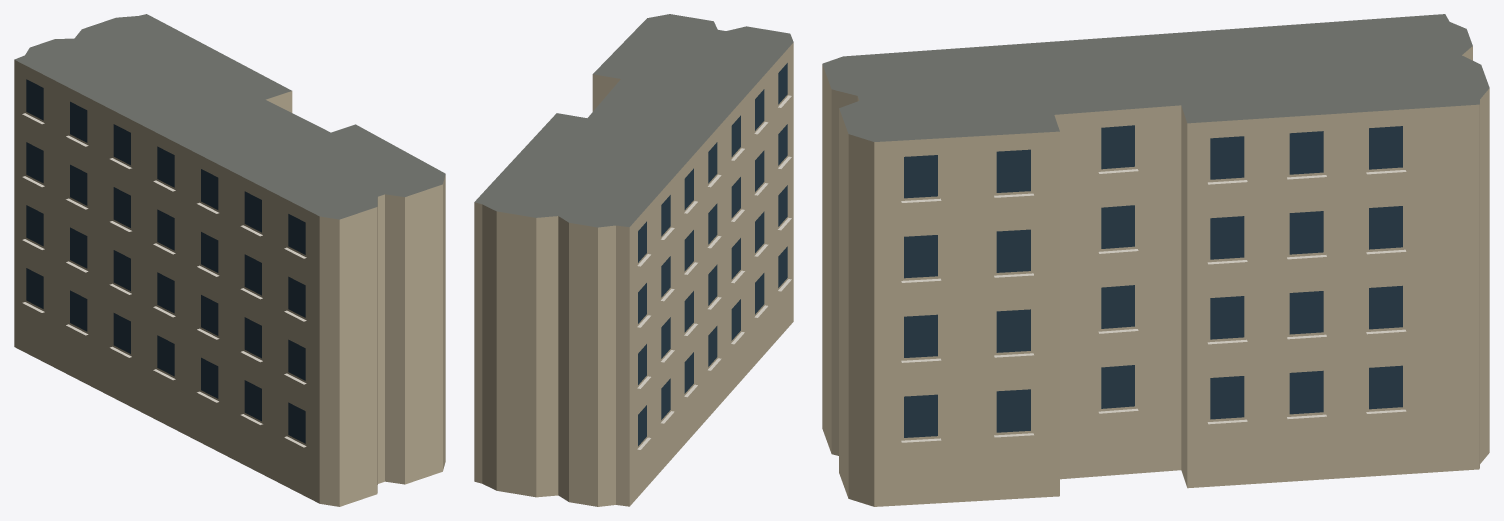
3 views of the same model, side by side, from view 1: azimuth 30°, elevation 25°; view 2: azimuth 150°, elevation 25°; view 3: azimuth 270°, elevation 25° (orthographic). The views are drawn at different scales.
Visible parts, largest first — view 1: Footprint 0, Inferred window bays, Window sills; view 2: Footprint 0, Inferred window bays, Window sills; view 3: Footprint 0, Inferred window bays, Window sills.
Boxes of the visible parts, left/top/right/bottom form: Footprint 0: left=14, top=14, right=445, bottom=506; Inferred window bays: left=26, top=79, right=305, bottom=443; Window sills: left=22, top=113, right=306, bottom=447; Footprint 0: left=474, top=14, right=793, bottom=506; Inferred window bays: left=638, top=63, right=787, bottom=446; Window sills: left=637, top=95, right=791, bottom=449; Footprint 0: left=822, top=14, right=1489, bottom=506; Inferred window bays: left=904, top=125, right=1402, bottom=437; Window sills: left=901, top=169, right=1406, bottom=442.
Bounding box in the file's own units: 11.13 × 14.51 × 24.06.
